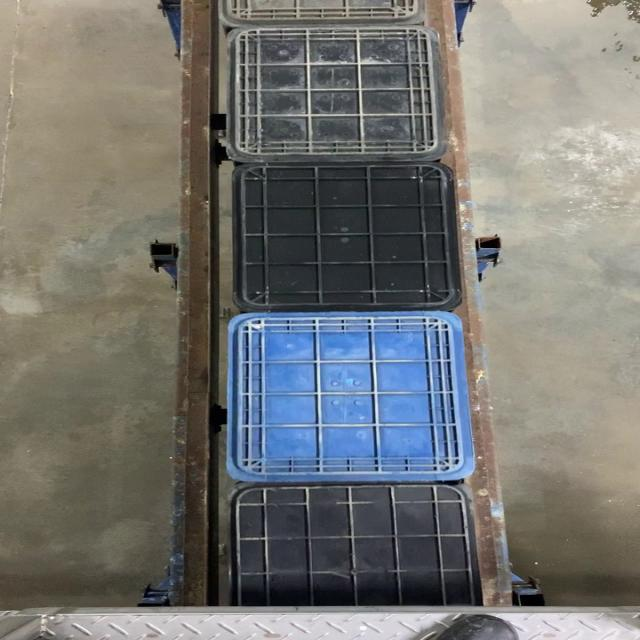Box: (224, 312, 482, 480), (231, 165, 461, 313), (224, 23, 451, 163)
